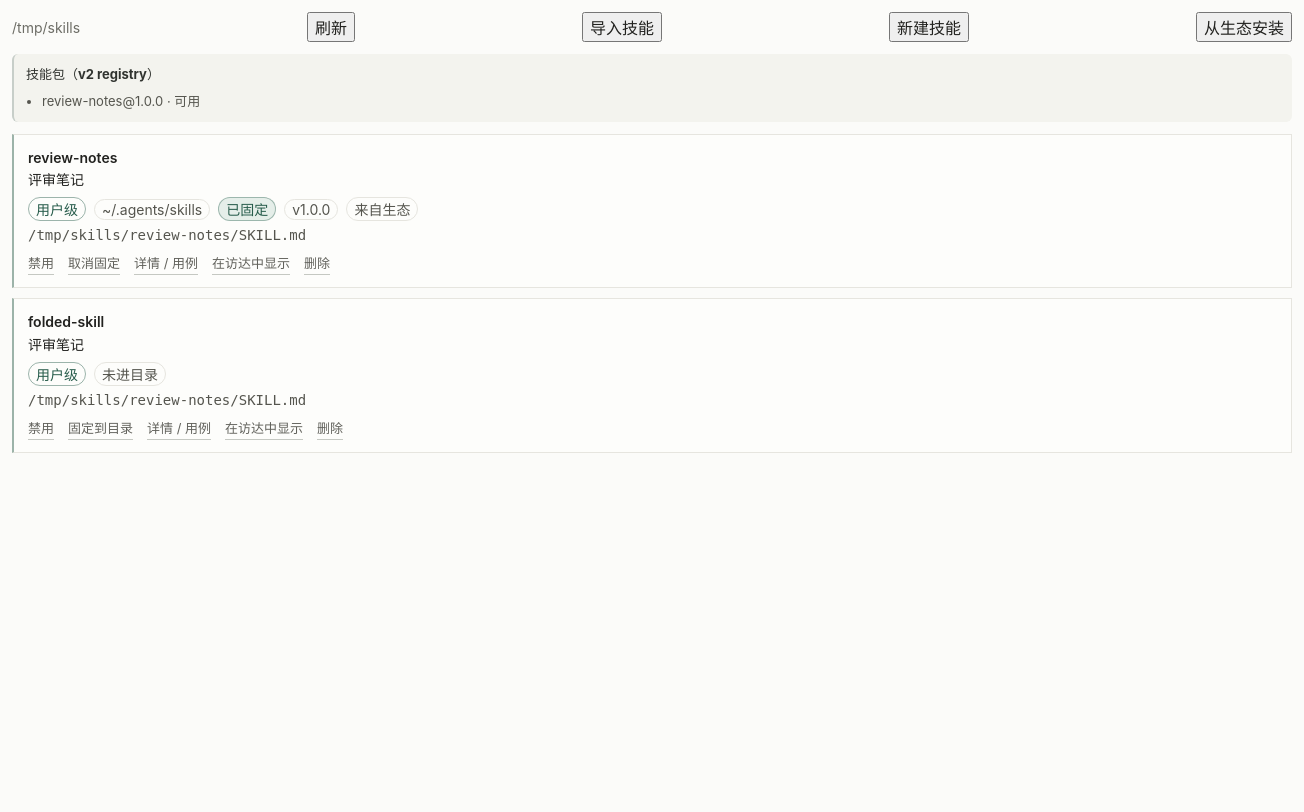
技能工作台（S2） › 点开详情可读使用记录并试跑用例
Click the button "详情 / 用例" below "已固定" at (166, 263), box [134, 251, 198, 275]
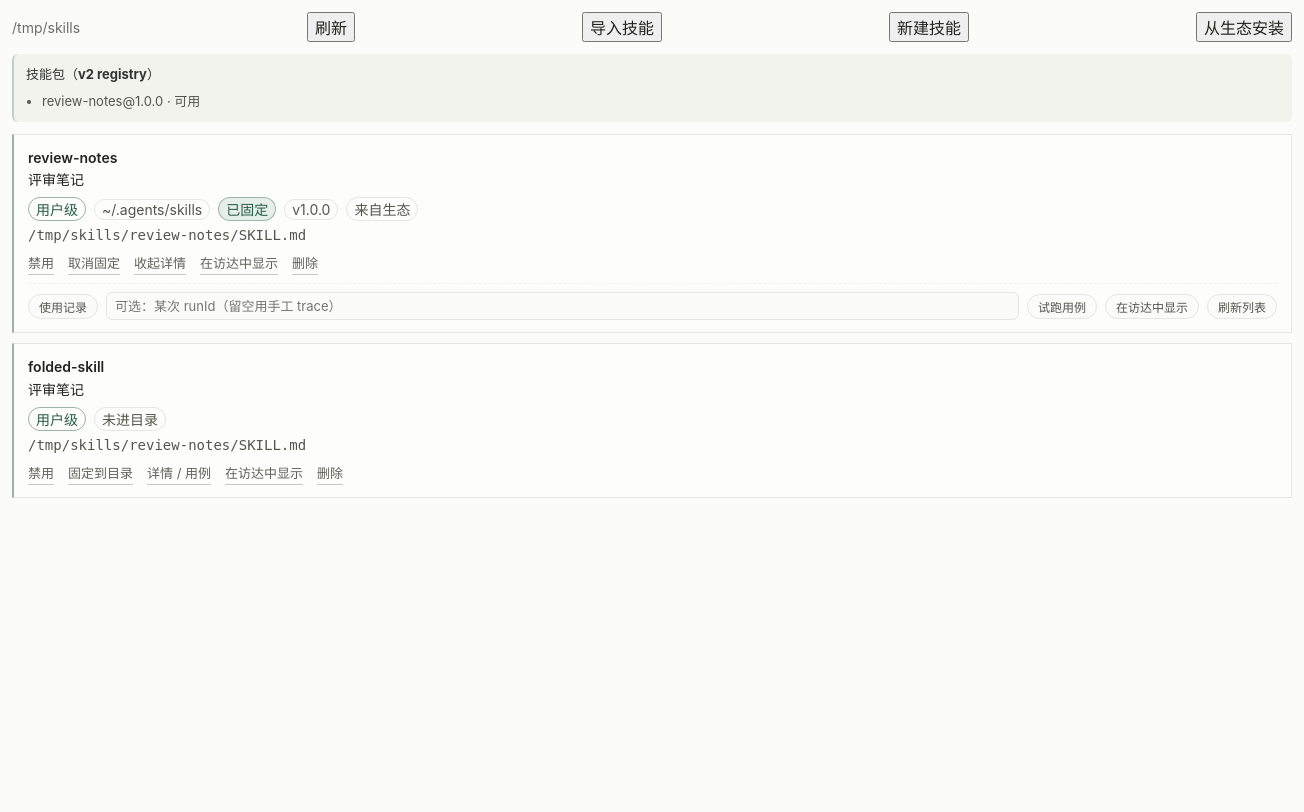
Click the button "使用记录" at (63, 306), box [28, 294, 98, 319]
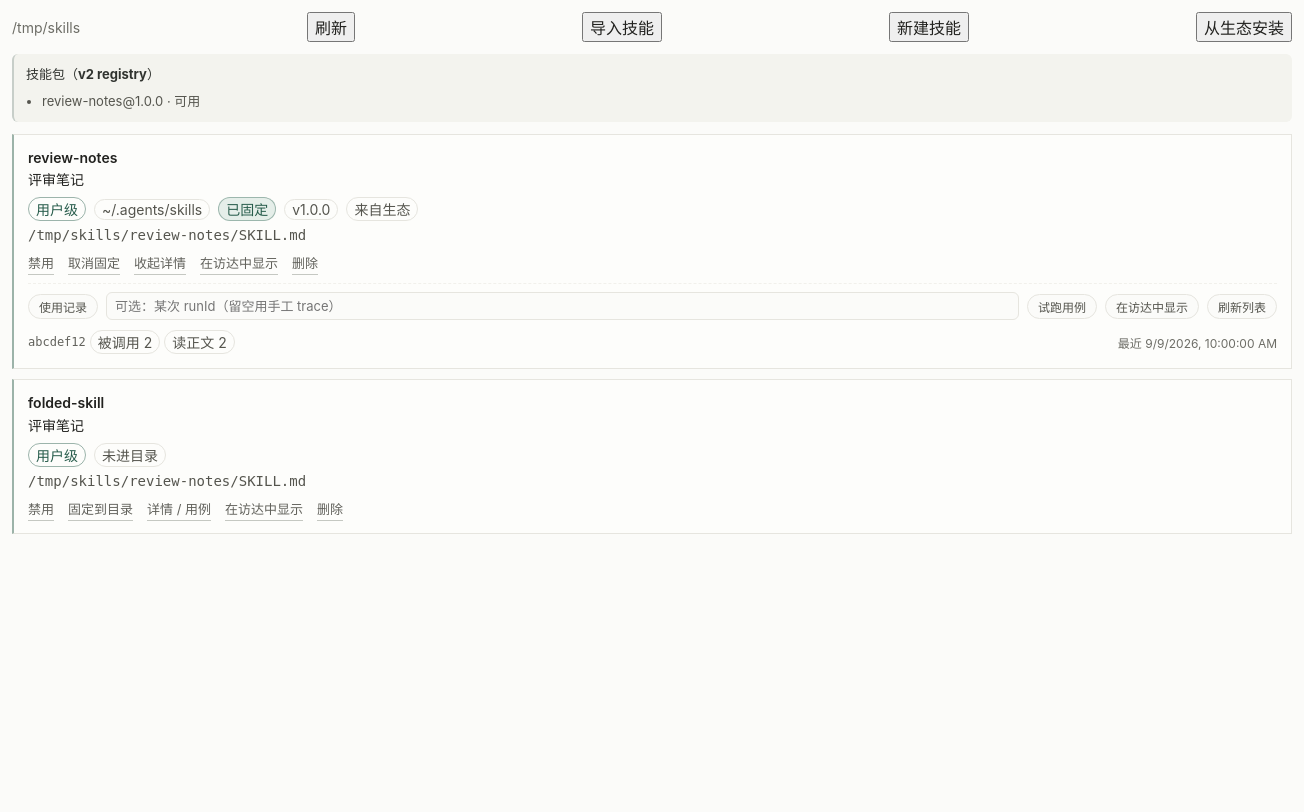
Expected: the text "被调用 2" is shown, [90, 330, 160, 354]
Expected: the text "abcdef12" is shown, [28, 335, 86, 349]
Click the button "试跑用例" at (1062, 306), box [1027, 294, 1097, 319]
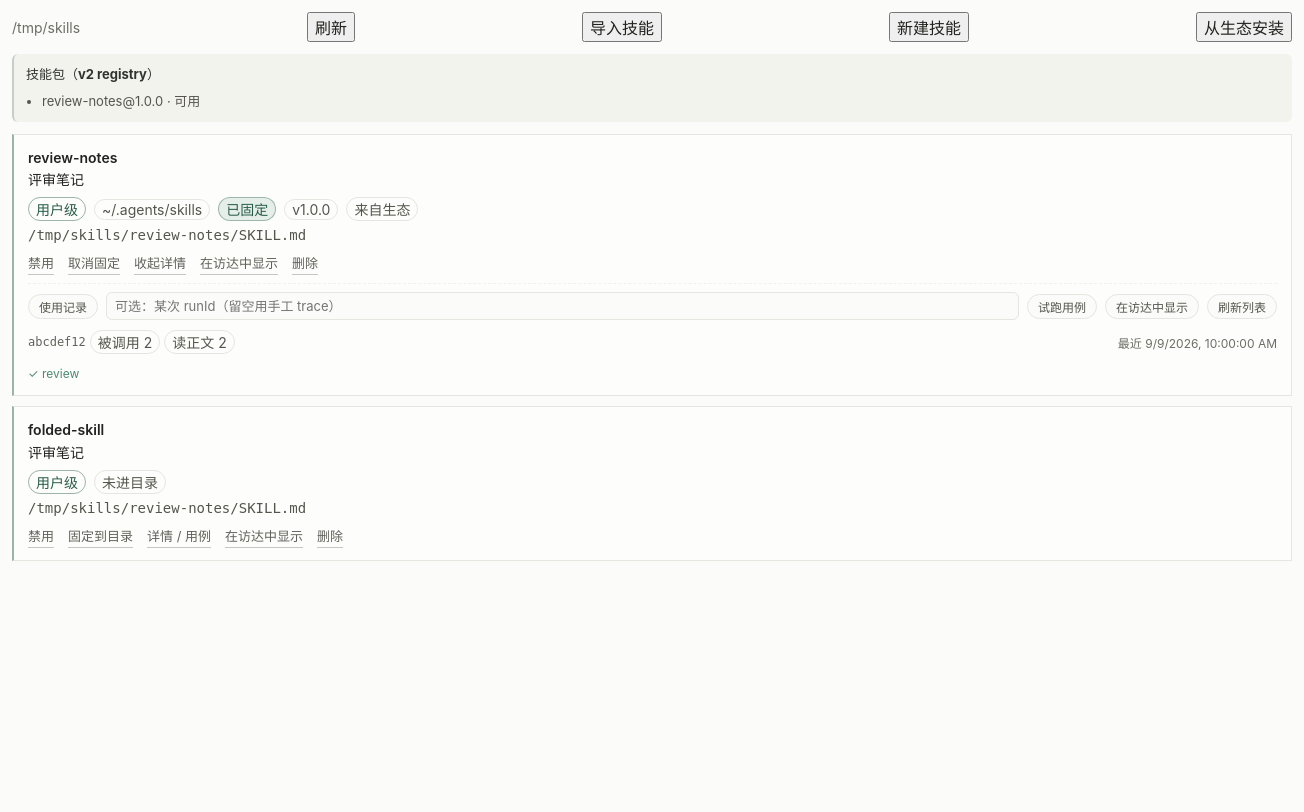
Expected: the text "✓ review" is shown, [28, 366, 79, 381]
